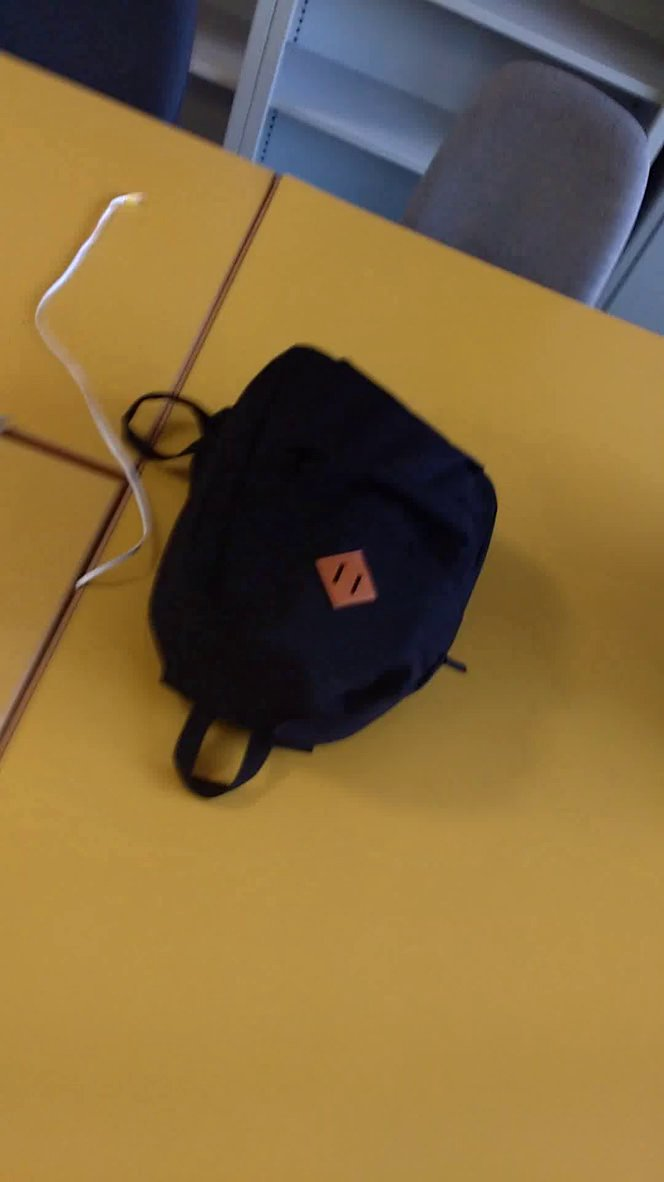bag: (117, 326, 514, 816)
chair: (393, 23, 664, 340)
